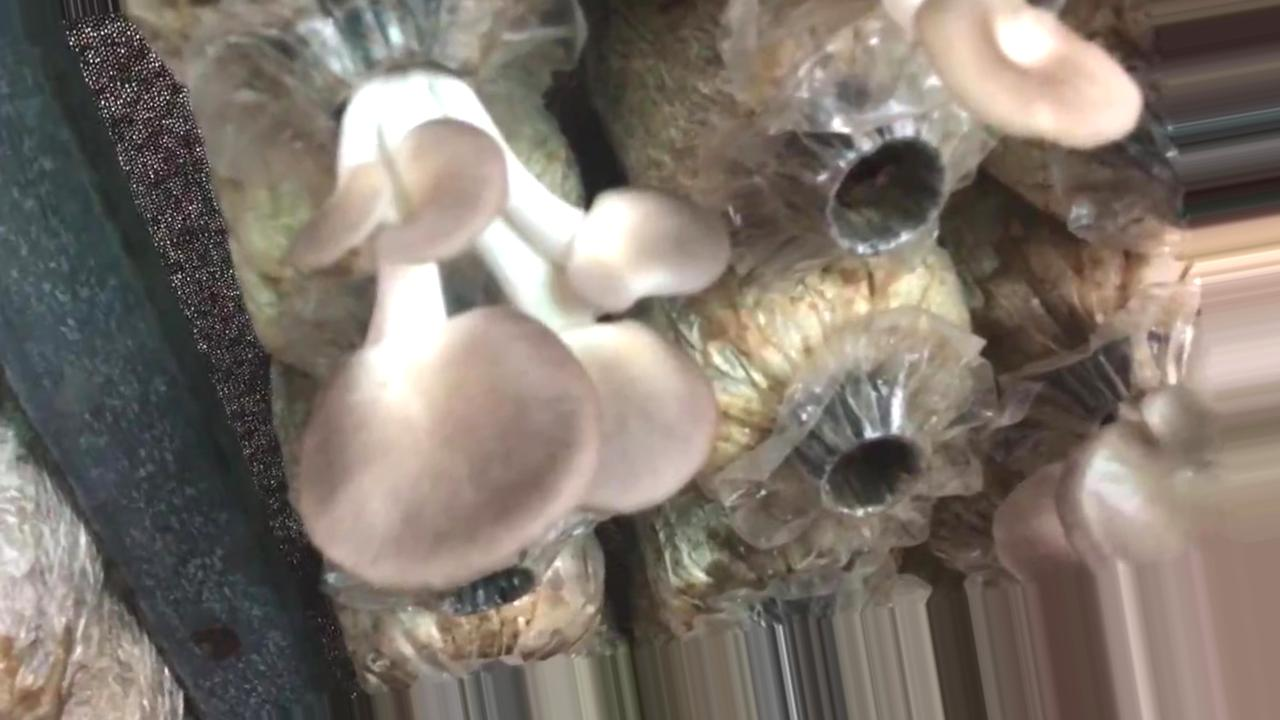nam: (277, 13, 728, 585), (917, 1, 1139, 145)
